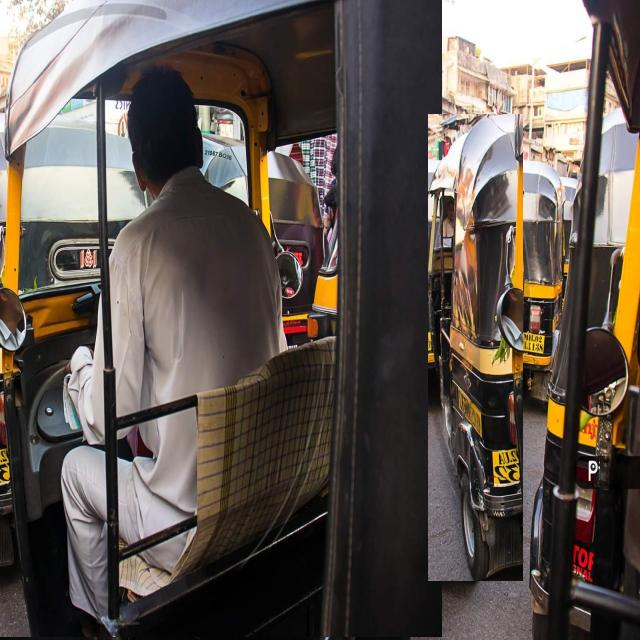autorickshaw: (0, 0, 442, 637), (429, 115, 523, 581)
